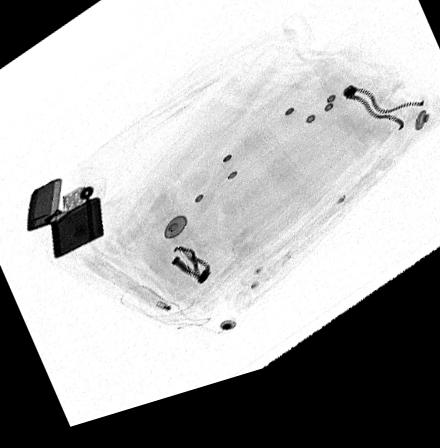Lighter: (25, 181, 104, 261)
